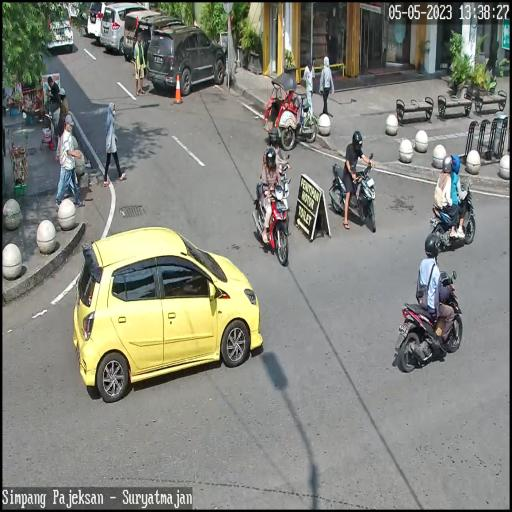mobil: (74, 228, 261, 404), (148, 20, 226, 96)
motor: (394, 270, 463, 374), (331, 153, 381, 231), (423, 178, 475, 253), (255, 177, 290, 267)
